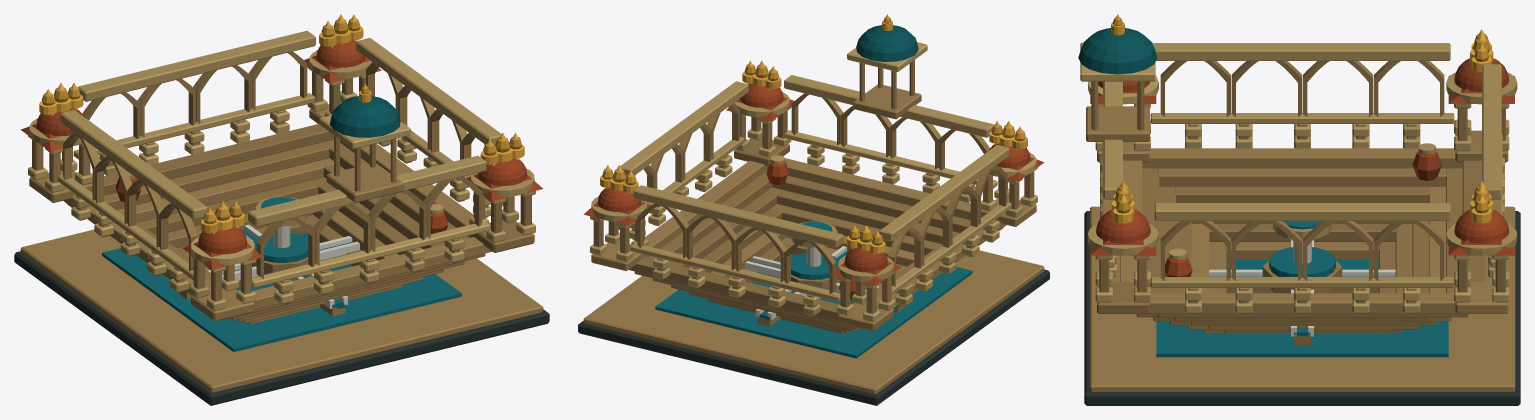
The picture shows the model from 3 angles, left to right: view 1: azimuth 30°, elevation 25°; view 2: azimuth 150°, elevation 25°; view 3: azimuth 270°, elevation 25°; orthographic projection. The views are drawn at different scales.
Parts seen in each view (by area): view 1: stepwell_level8_structure, stepwell_level8_metal; view 2: stepwell_level8_structure, stepwell_level8_metal; view 3: stepwell_level8_structure, stepwell_level8_metal.
Part boxes in pixels (x1=…): stepwell_level8_structure: x1=14, y1=19, x2=549, y2=405; stepwell_level8_metal: x1=39, y1=14, x2=524, y2=233; stepwell_level8_structure: x1=578, y1=17, x2=1049, y2=405; stepwell_level8_metal: x1=600, y1=14, x2=1027, y2=253; stepwell_level8_structure: x1=1078, y1=17, x2=1520, y2=405; stepwell_level8_metal: x1=1111, y1=14, x2=1493, y2=223.
Size of the model in its own units: 5.6 by 4.26 by 5.68.
